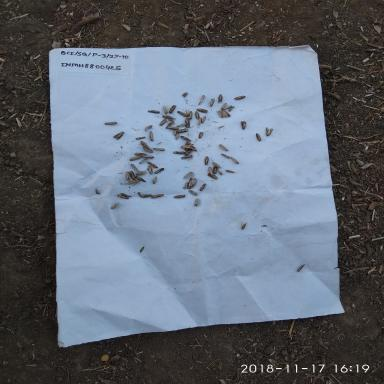pbw: (293, 262, 307, 275), (112, 130, 126, 141), (151, 167, 165, 178), (262, 126, 274, 138), (238, 118, 250, 130), (218, 142, 231, 153), (138, 139, 152, 149), (149, 192, 166, 200), (254, 132, 265, 144), (162, 120, 174, 131), (142, 144, 155, 154), (165, 104, 178, 114), (232, 93, 248, 101), (132, 150, 150, 157), (184, 143, 198, 152), (197, 93, 208, 104), (230, 155, 241, 166), (162, 113, 177, 121), (195, 129, 205, 141), (134, 245, 146, 255), (159, 104, 169, 116), (201, 154, 210, 167), (174, 128, 190, 135), (206, 172, 220, 180), (133, 175, 147, 183), (127, 155, 145, 161), (124, 179, 142, 185), (108, 201, 121, 209), (141, 123, 154, 131), (151, 146, 168, 152), (172, 150, 189, 156), (186, 181, 196, 191), (138, 154, 158, 159), (123, 172, 133, 182), (198, 114, 208, 124), (144, 164, 154, 174), (222, 108, 232, 118), (130, 163, 141, 172), (183, 146, 192, 157), (174, 110, 188, 117), (116, 193, 130, 200), (148, 160, 160, 168), (132, 170, 148, 176), (158, 118, 170, 126), (147, 108, 163, 114), (147, 130, 155, 142), (216, 92, 224, 104), (103, 120, 119, 126), (194, 108, 210, 114), (188, 189, 200, 197), (184, 140, 196, 148), (166, 125, 182, 131), (239, 222, 248, 232), (182, 182, 192, 191), (139, 193, 154, 199), (212, 160, 223, 168), (215, 109, 223, 120), (191, 198, 202, 206), (139, 158, 150, 166), (182, 171, 193, 179), (184, 117, 192, 128), (178, 143, 192, 149), (225, 168, 237, 175), (218, 152, 232, 158), (178, 135, 192, 141), (207, 166, 215, 176), (180, 154, 196, 159), (198, 181, 206, 191), (218, 102, 228, 110), (212, 164, 220, 174), (196, 116, 204, 126), (216, 166, 224, 176), (151, 175, 159, 185), (119, 192, 132, 198), (172, 194, 187, 199), (94, 187, 102, 196), (222, 104, 234, 110), (228, 105, 237, 113), (134, 135, 146, 141), (176, 122, 188, 128), (208, 98, 216, 107), (180, 90, 189, 98), (174, 132, 181, 142), (193, 111, 201, 119), (184, 108, 191, 117), (172, 127, 178, 136)
